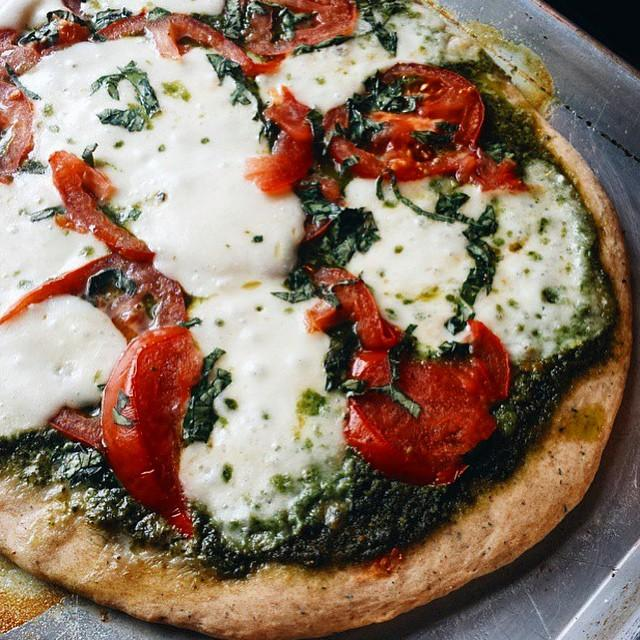pizza: (0, 0, 633, 640)
tomatoes: (345, 321, 515, 481), (100, 324, 212, 536), (325, 61, 499, 186), (3, 255, 206, 350), (90, 8, 258, 82), (51, 149, 154, 266), (245, 85, 318, 199), (308, 270, 404, 354), (236, 0, 362, 58), (0, 58, 33, 191), (0, 19, 92, 64)
